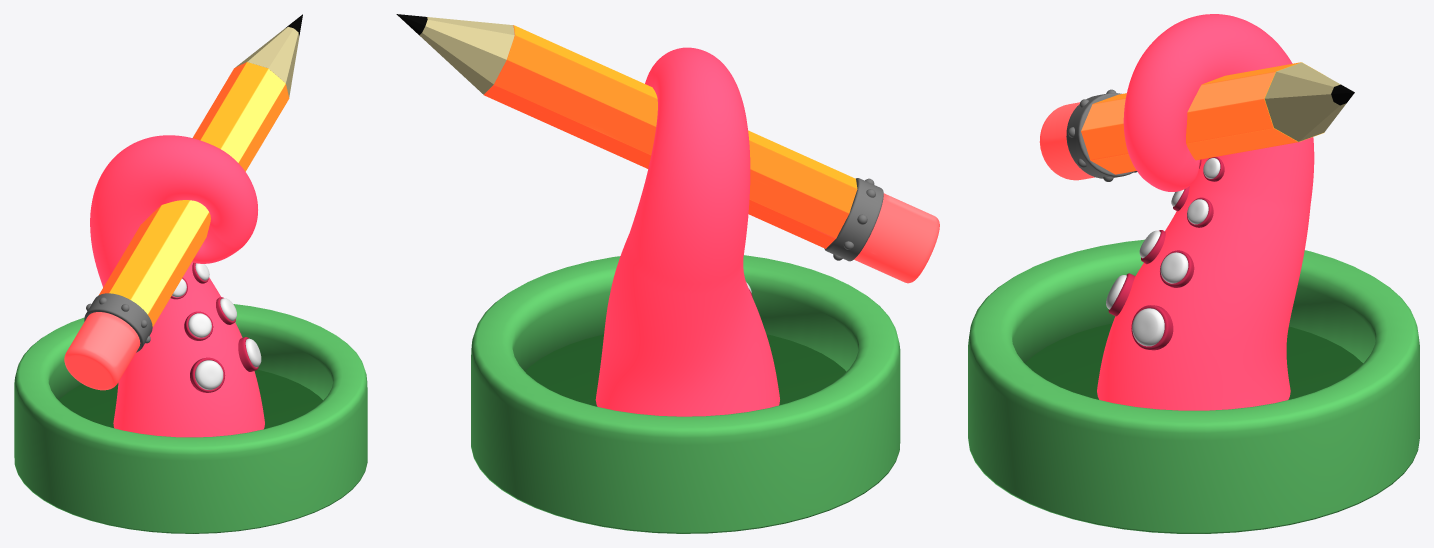
Rendered from octopus.glb.
3 views of the same model, side by side, from view 1: azimuth 30°, elevation 25°; view 2: azimuth 150°, elevation 25°; view 3: azimuth 270°, elevation 25° (orthographic). The views are drawn at different scales.
Visible parts, largest first — view 1: Cylinder.002, BezierCurve.001, Cylinder, Cylinder.001, Cylinder.005, Cylinder.011, Cone, Cylinder.003, Cylinder.004; view 2: Cylinder.002, BezierCurve.001, Cylinder, Cylinder.005, Cylinder.001, Cone, Cylinder.003; view 3: Cylinder.002, BezierCurve.001, Cylinder, Cylinder.005, Cone, Cylinder.011, Cylinder.004, Cylinder.001, Cylinder.003.
Part boxes in pixels (box(x1,y1,x2,y2)): Cylinder.002: box(14, 304, 367, 533); BezierCurve.001: box(90, 135, 264, 437); Cylinder: box(99, 62, 289, 326); Cylinder.001: box(64, 312, 140, 390); Cylinder.005: box(59, 369, 322, 429); Cylinder.011: box(172, 263, 261, 389); Cone: box(235, 26, 299, 97); Cylinder.003: box(84, 293, 152, 352); Cylinder.004: box(170, 262, 258, 392); Cylinder.002: box(471, 255, 900, 533); BezierCurve.001: box(595, 47, 779, 416); Cylinder: box(484, 25, 857, 248); Cylinder.005: box(525, 334, 846, 406); Cylinder.001: box(854, 193, 939, 283); Cone: box(419, 17, 514, 94); Cylinder.003: box(824, 178, 883, 261); Cylinder.002: box(968, 239, 1419, 533); BezierCurve.001: box(1097, 14, 1314, 410); Cylinder: box(1081, 62, 1324, 174); Cylinder.005: box(1025, 323, 1362, 399); Cone: box(1264, 62, 1346, 141); Cylinder.011: box(1106, 158, 1220, 346); Cylinder.004: box(1108, 157, 1224, 350); Cylinder.001: box(1039, 102, 1094, 180); Cylinder.003: box(1066, 93, 1135, 178).
Size of the model in its own units: 222 by 223 by 200.
Materials: 11 (10 with a texture image).
